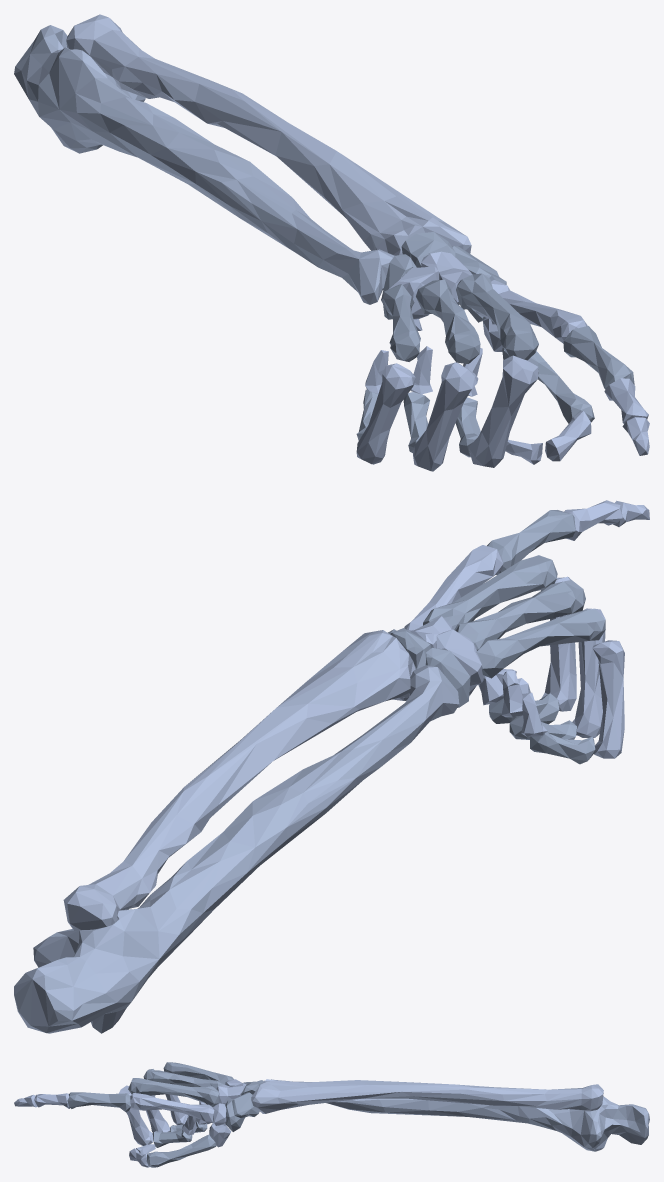
The model's file is hand-hint.fbx.
3 views of the same model, one above another, from view 1: azimuth 30°, elevation 25°; view 2: azimuth 150°, elevation 25°; view 3: azimuth 270°, elevation 25° (orthographic). The views are drawn at different scales.
Parts seen in each view (by area): view 1: hand-hint; view 2: hand-hint; view 3: hand-hint.
Boxes of the visible parts, bbox=[...] form: hand-hint: bbox=[14, 14, 649, 471]; hand-hint: bbox=[14, 500, 649, 1033]; hand-hint: bbox=[14, 1062, 649, 1167].
Bounding box in the file's own units: 0.0963 × 0.4801 × 0.0674.
1 material, 1 textured.
